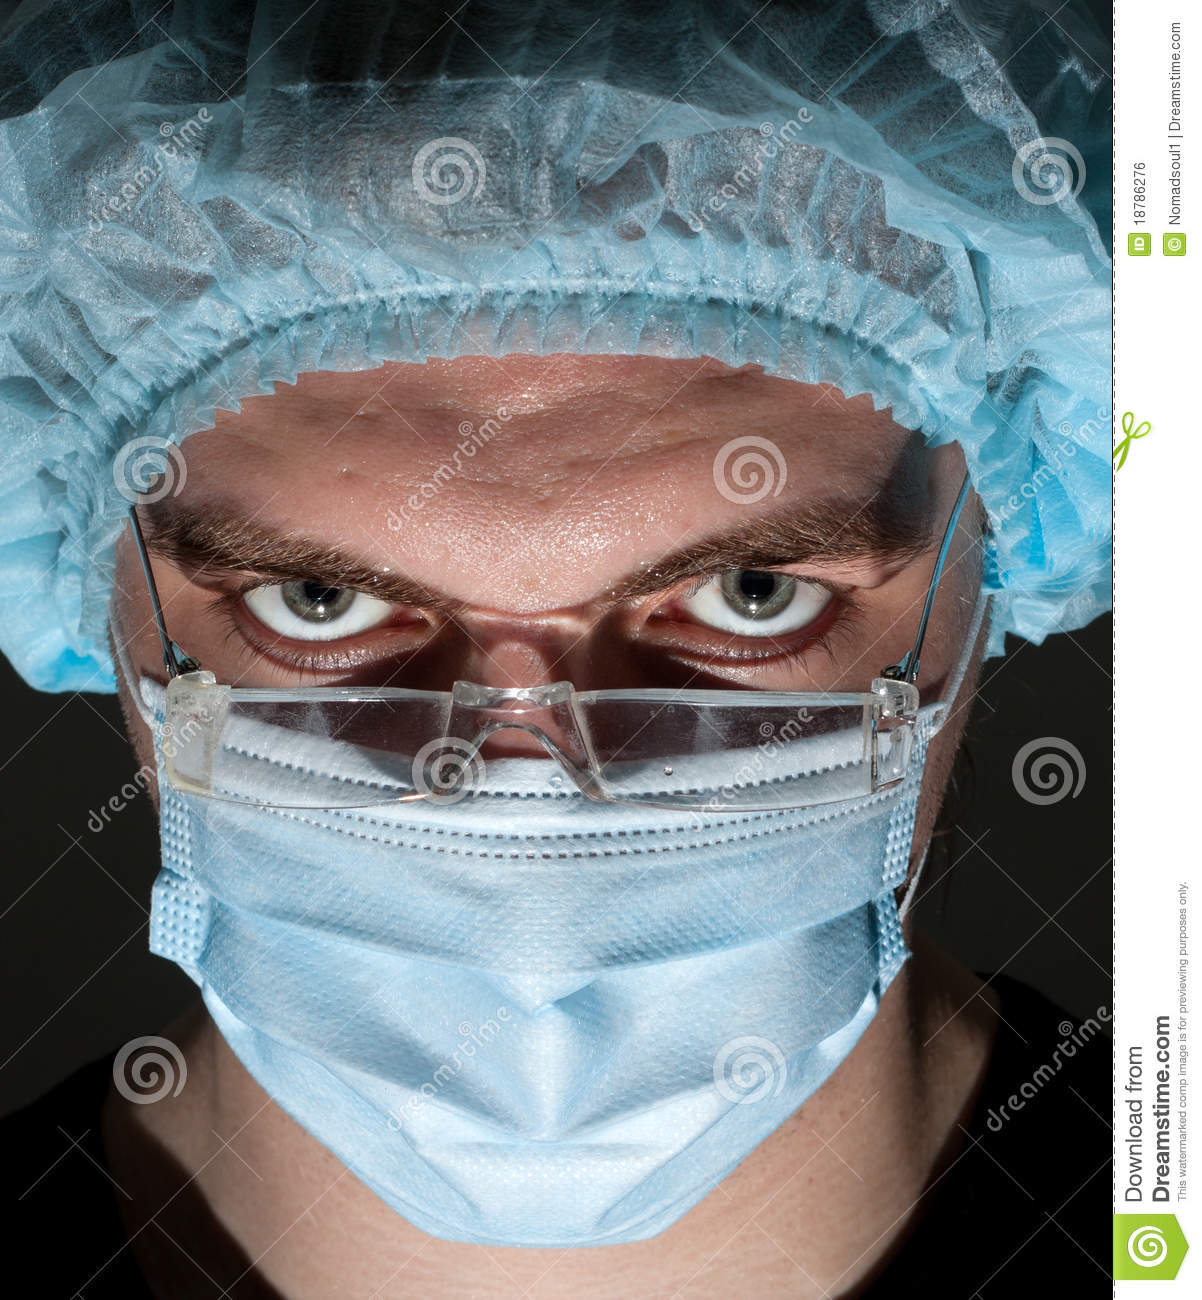mask: (145, 729, 929, 1243)
